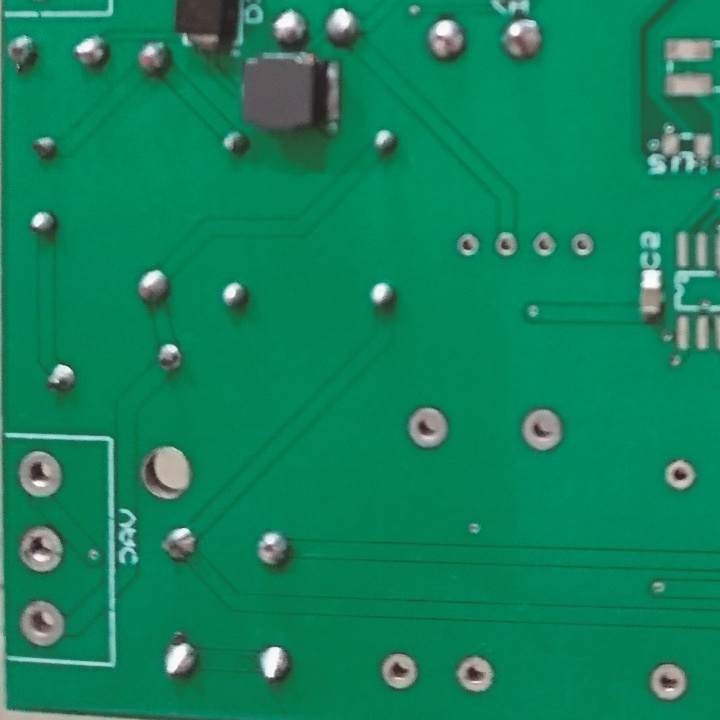F: (518, 404, 568, 457), (15, 447, 64, 500), (16, 523, 64, 576), (21, 596, 65, 649), (407, 404, 452, 454), (453, 652, 496, 693), (379, 650, 419, 692), (647, 658, 687, 700), (662, 459, 694, 492), (455, 230, 481, 263), (494, 229, 519, 262), (570, 229, 595, 260), (533, 232, 558, 260)
